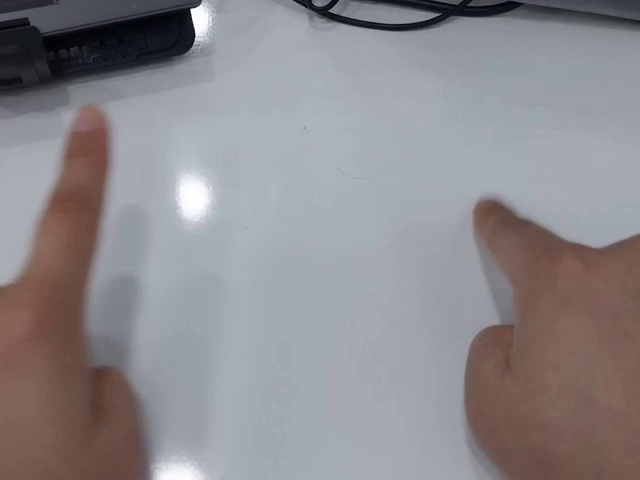fingers: (64, 103, 111, 161), (472, 196, 520, 238)
